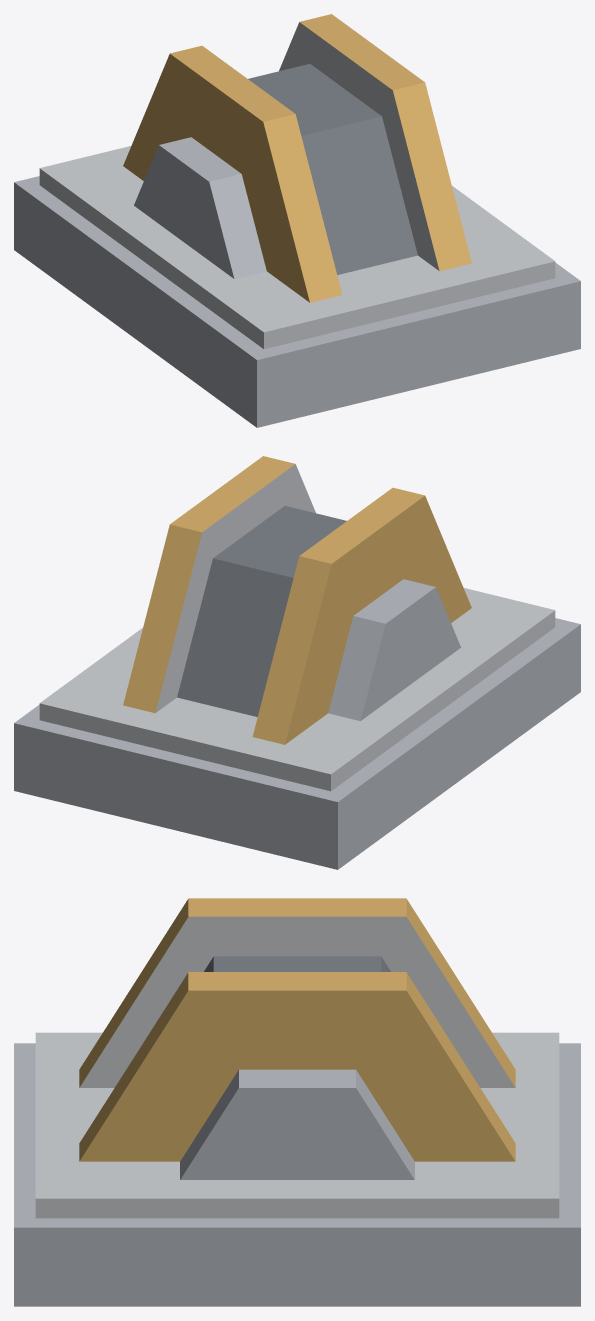
The model's file is machine_generatorLarge.glb.
The picture shows the model from 3 angles, top to bottom: view 1: azimuth 30°, elevation 25°; view 2: azimuth 150°, elevation 25°; view 3: azimuth 270°, elevation 25°; orthographic projection. The views are drawn at different scales.
Parts seen in each view (by area): view 1: machine_generatorLarge; view 2: machine_generatorLarge; view 3: machine_generatorLarge.
Boxes of the visible parts, <box> form: machine_generatorLarge: <box>14,14,580,427</box>; machine_generatorLarge: <box>14,456,580,869</box>; machine_generatorLarge: <box>14,898,580,1306</box>.
Bounding box in the file's own units: 1 × 0.6831 × 1.3.
